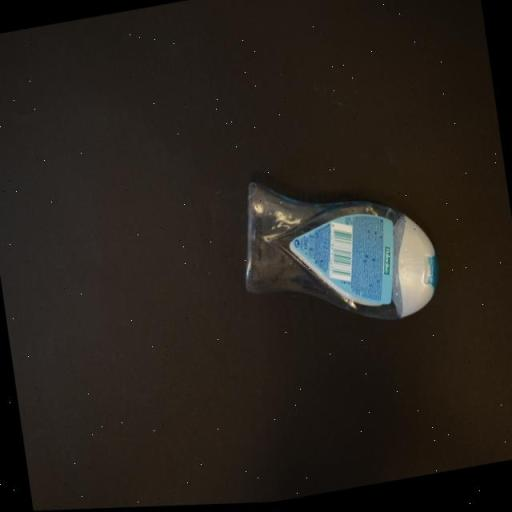plastic: (232, 151, 446, 350)
